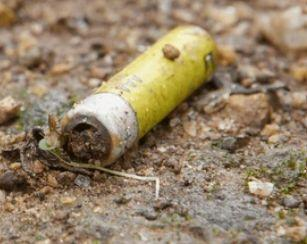battery: (55, 24, 222, 171)
